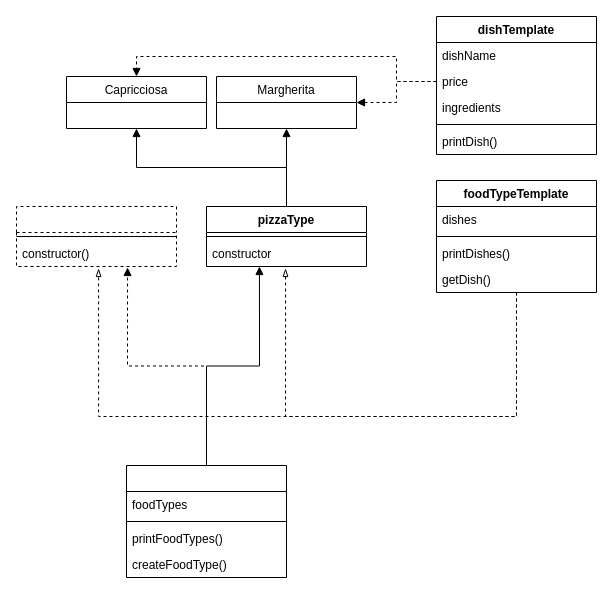
Image size: 613x594. Some labels were removed from this diagram. The box of each missing label's shape, as (x1, y1, x2, y2) in pixels:
FoodFactory: (126, 464, 286, 578)
hamburgerType: (16, 206, 176, 266)
